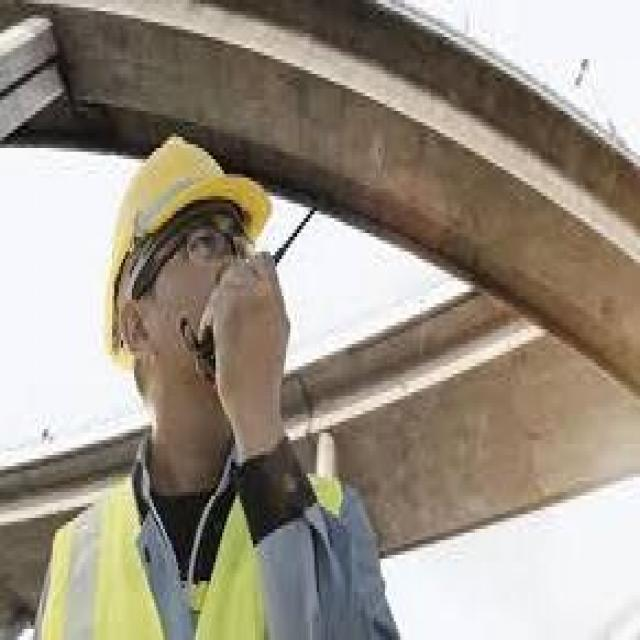Reflective-Jacket: (35, 458, 378, 640)
Safety-Helmet: (84, 118, 288, 374)
